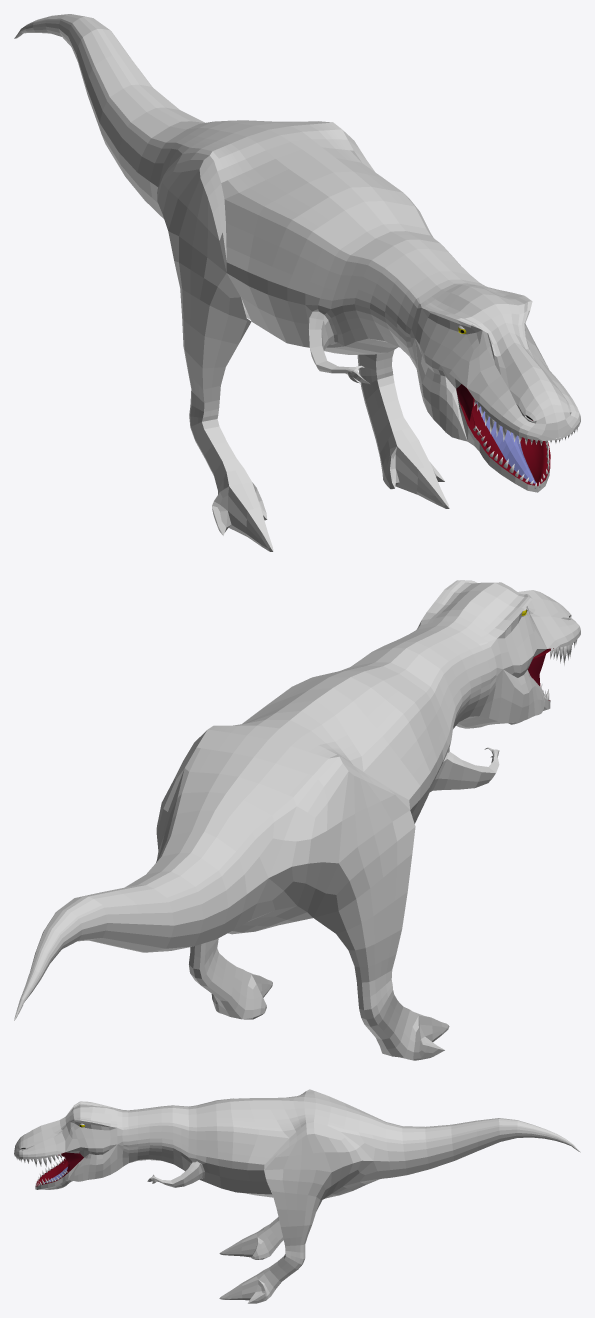
File: trex.dae
3 renders of one model, top to bottom at view 1: azimuth 30°, elevation 25°; view 2: azimuth 150°, elevation 25°; view 3: azimuth 270°, elevation 25°, orthographic. The views are drawn at different scales.
Parts seen in each view (by area): view 1: Skin, TopSkinDark, Mouth, Tongue, Stomach, Tooths; view 2: Skin, TopSkinDark, Stomach; view 3: Skin, TopSkinDark, Stomach, Mouth, Tooths.
Boxes of the visible parts, x1,y1,x2,y2 form: Skin: (14,18,580,551); TopSkinDark: (27,14,571,539); Mouth: (459,388,550,486); Tongue: (476,402,535,483); Stomach: (15,32,397,354); Tooths: (473,400,577,488); Skin: (14,606,580,1060); TopSkinDark: (14,580,571,1049); Stomach: (78,707,547,952); Skin: (14,1089,580,1303); TopSkinDark: (15,1092,578,1303); Stomach: (39,1159,381,1199); Mouth: (36,1152,77,1186); Tooths: (14,1153,67,1187).
Bounding box in the file's own units: 2.35 × 9.98 × 3.44.
